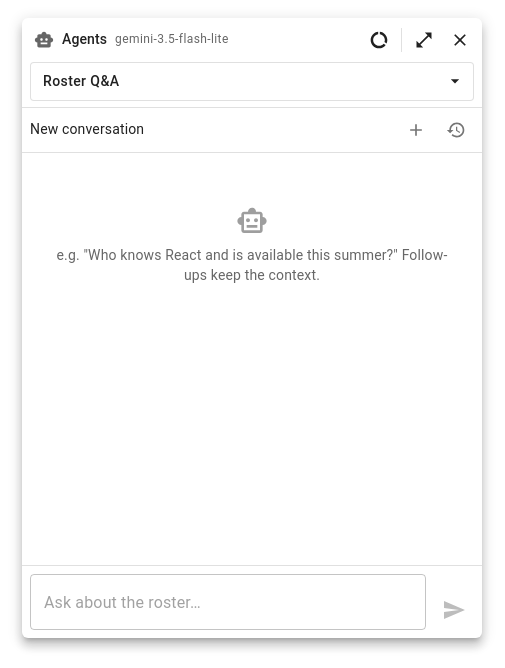
a Roster Q&A answer names the model that wrote it › captions the assistant turn with the reported model
The image size is (505, 668).
Type "Who knows React?" into the text box with placeholder "Ask about the roster…" at point(228, 602), box [44,590,412,614]
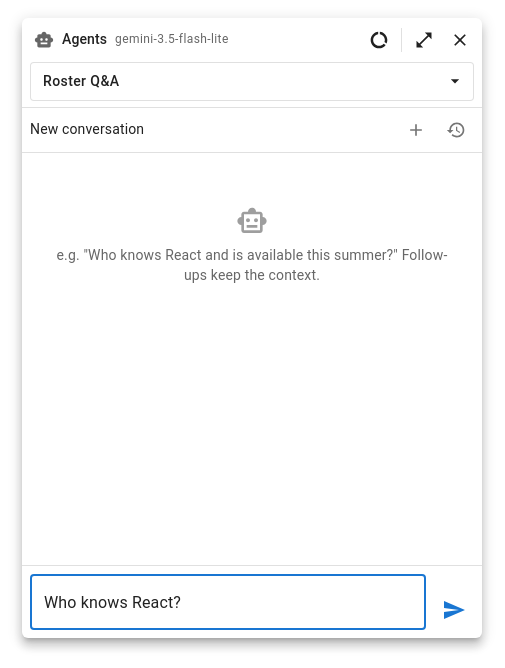
Click the button named "Send" at point(454, 610), box [434,590,474,630]
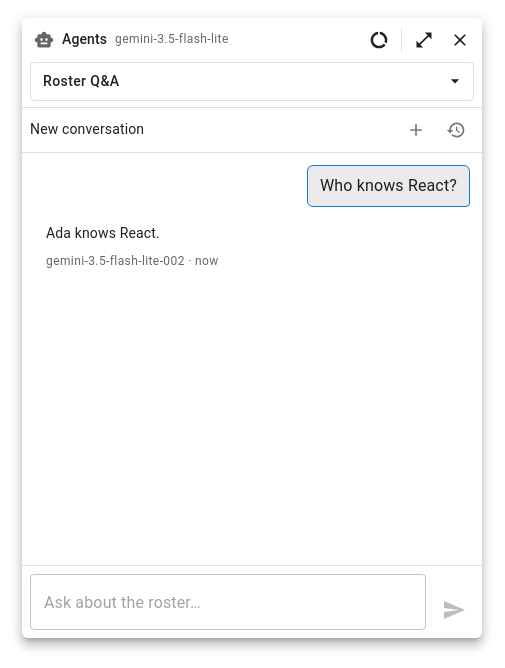
expect the text "gemini-3.5-flash-lite-002" is shown: met, box [46,254,185,268]
